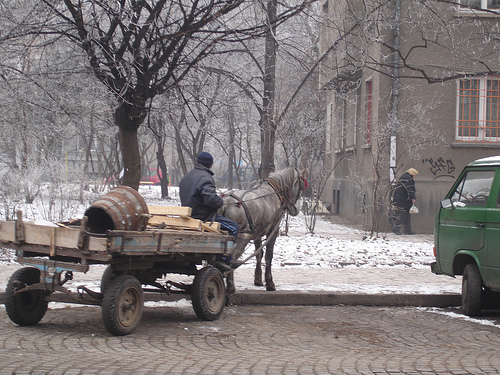horse: (219, 159, 309, 292)
